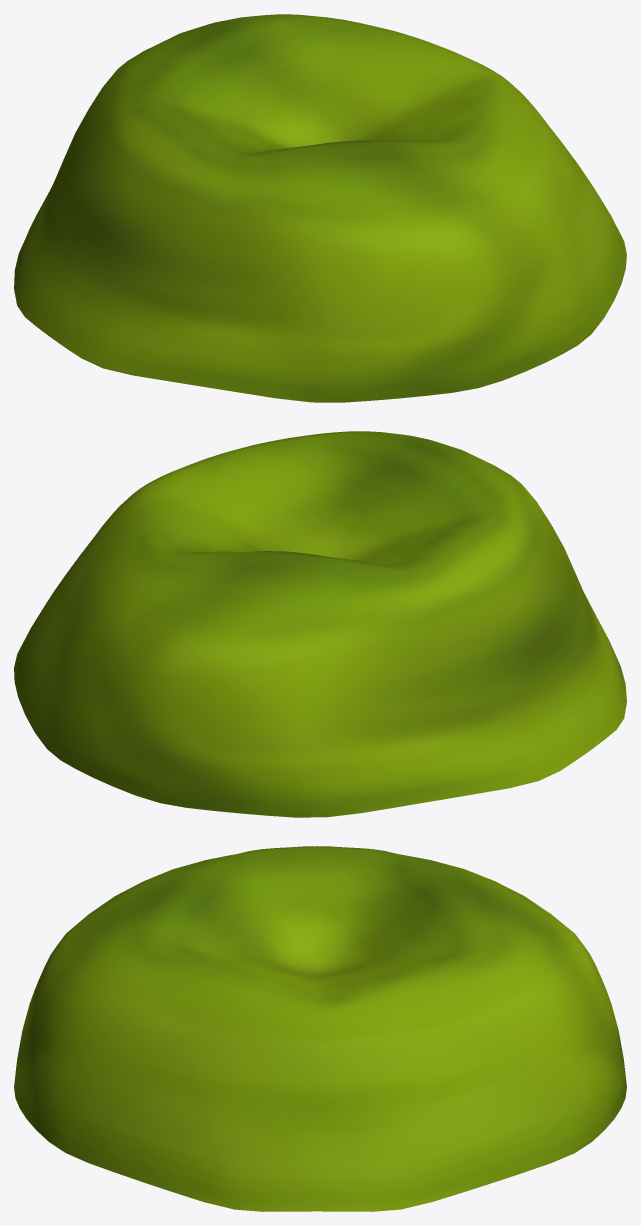
Rendered from nest.obj.
The picture shows the model from 3 angles, top to bottom: view 1: azimuth 30°, elevation 25°; view 2: azimuth 150°, elevation 25°; view 3: azimuth 270°, elevation 25°; orthographic projection. The views are drawn at different scales.
Visible parts, largest first — view 1: ColobotMesh_1_ColobotMesh_; view 2: ColobotMesh_1_ColobotMesh_; view 3: ColobotMesh_1_ColobotMesh_.
Part boxes in pixels (<box>): ColobotMesh_1_ColobotMesh_: <box>14,14,626,402</box>; ColobotMesh_1_ColobotMesh_: <box>14,431,626,817</box>; ColobotMesh_1_ColobotMesh_: <box>14,846,626,1211</box>.
Bounding box in the file's own units: 8.69 × 2.89 × 8.75.
